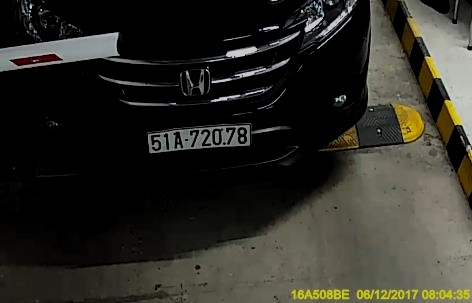plate: (138, 124, 258, 154)
